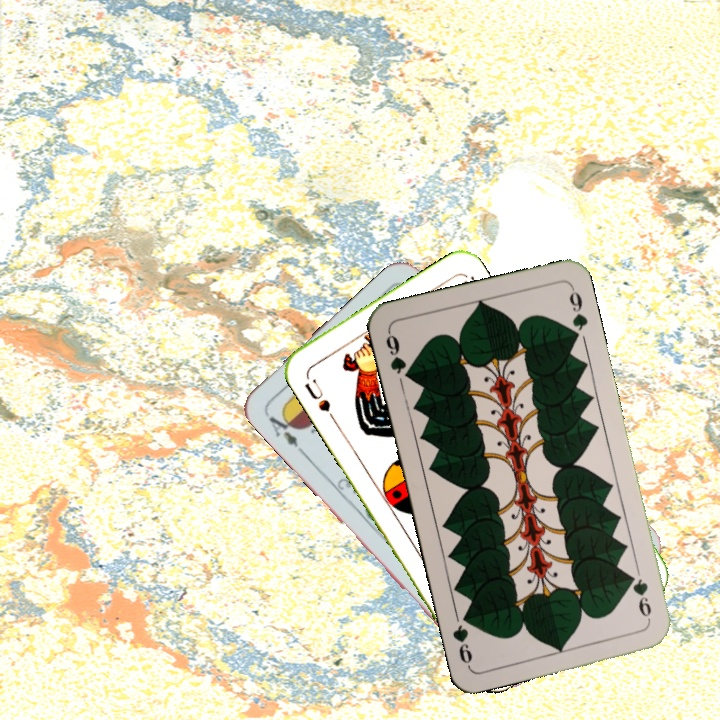EA: (262, 407, 307, 456)
G9: (381, 327, 415, 383), (625, 570, 654, 624)
SU: (301, 370, 338, 424)
